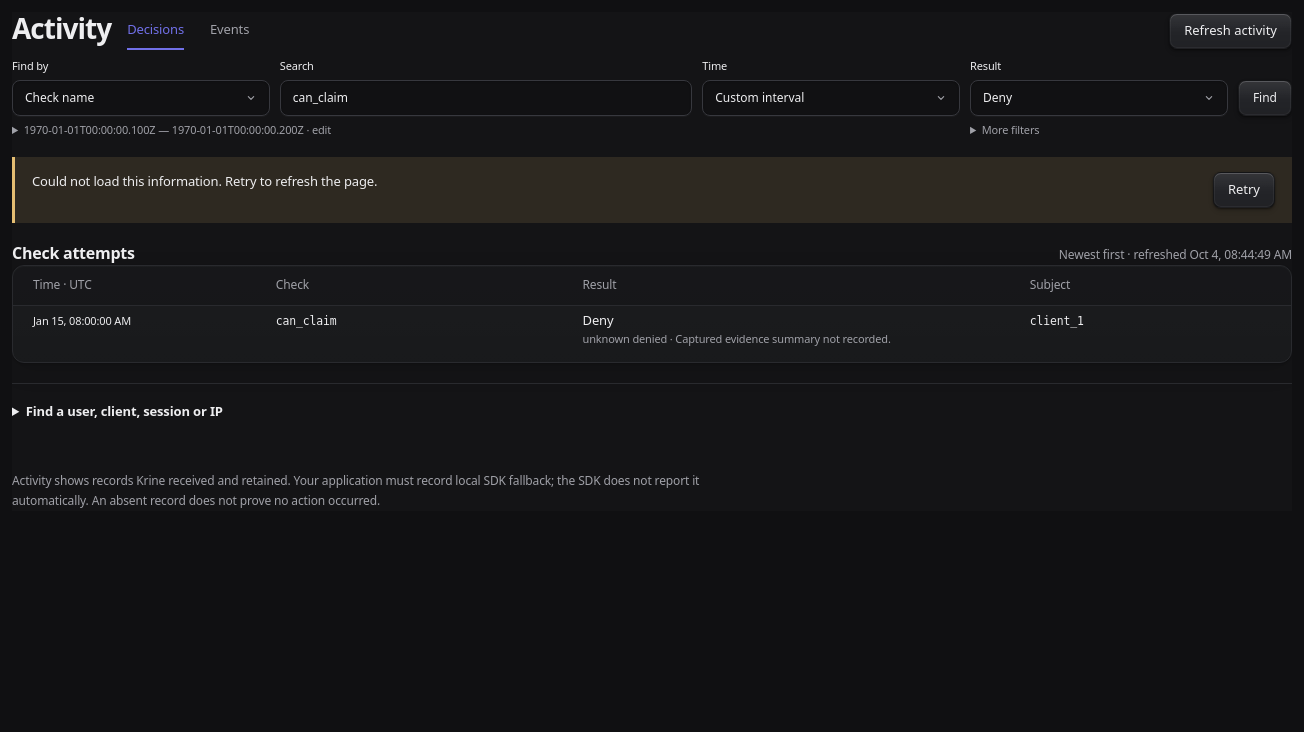
it: honest resource state › retains rows with an explicit stale marker and last successful refresh after a failed refresh
Expected: the link "Deny" is shown, [582,311,613,329]
Click the button "Refresh activity" at (1231, 31), box [1169,13,1292,49]
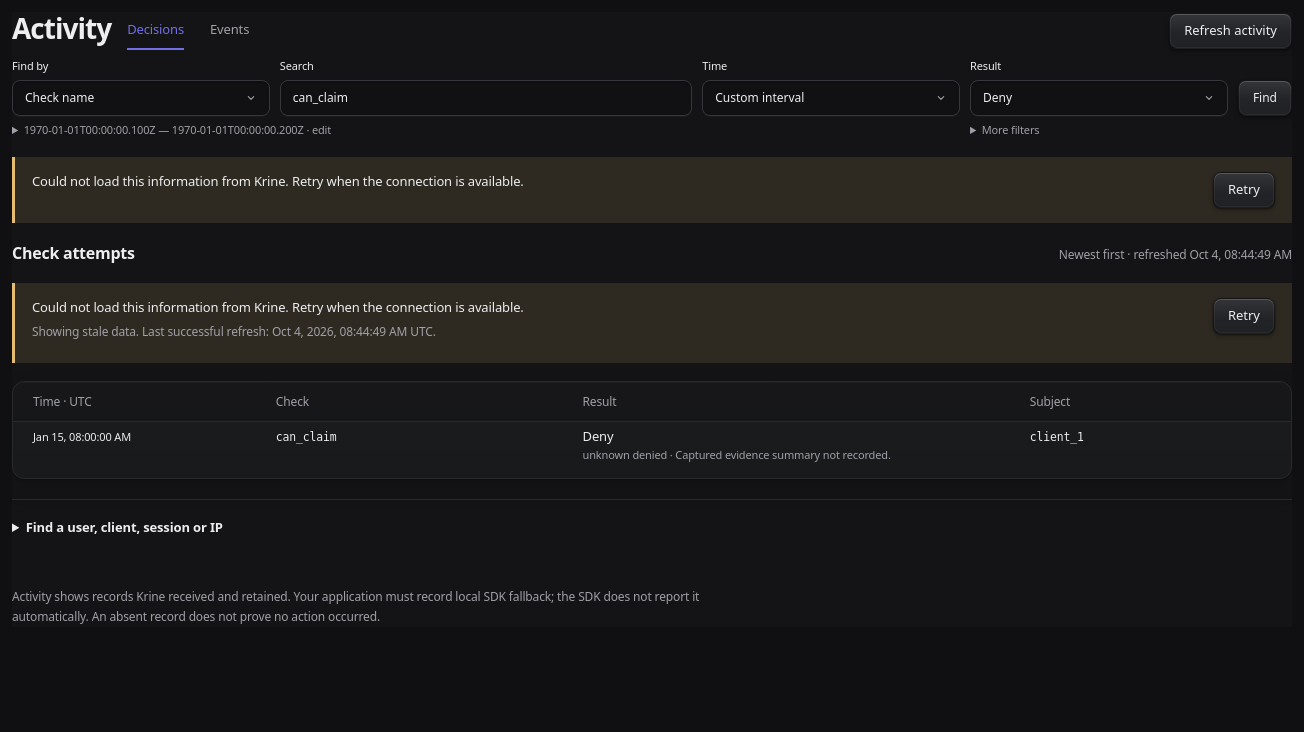
Expected: the link "Deny" is shown, [582,427,613,445]
Result: the text "Showing stale data. Last successful refresh" is shown at [32,323,269,340]
